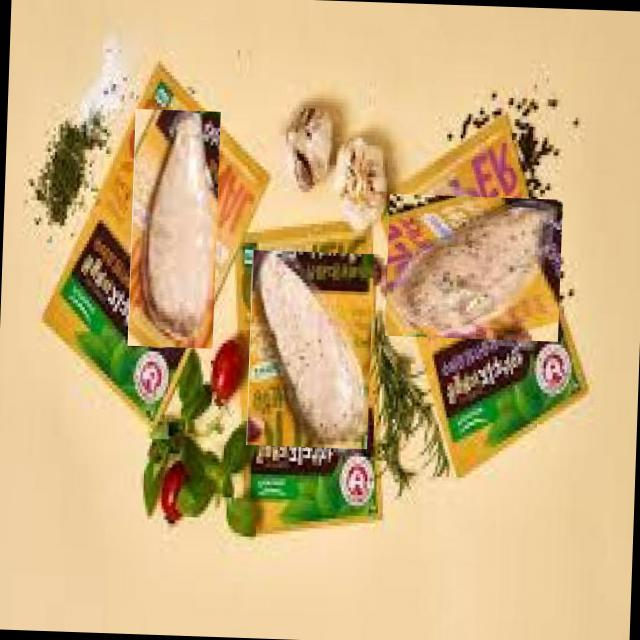chicken: (392, 186, 555, 349), (245, 249, 374, 449), (127, 108, 220, 350)
